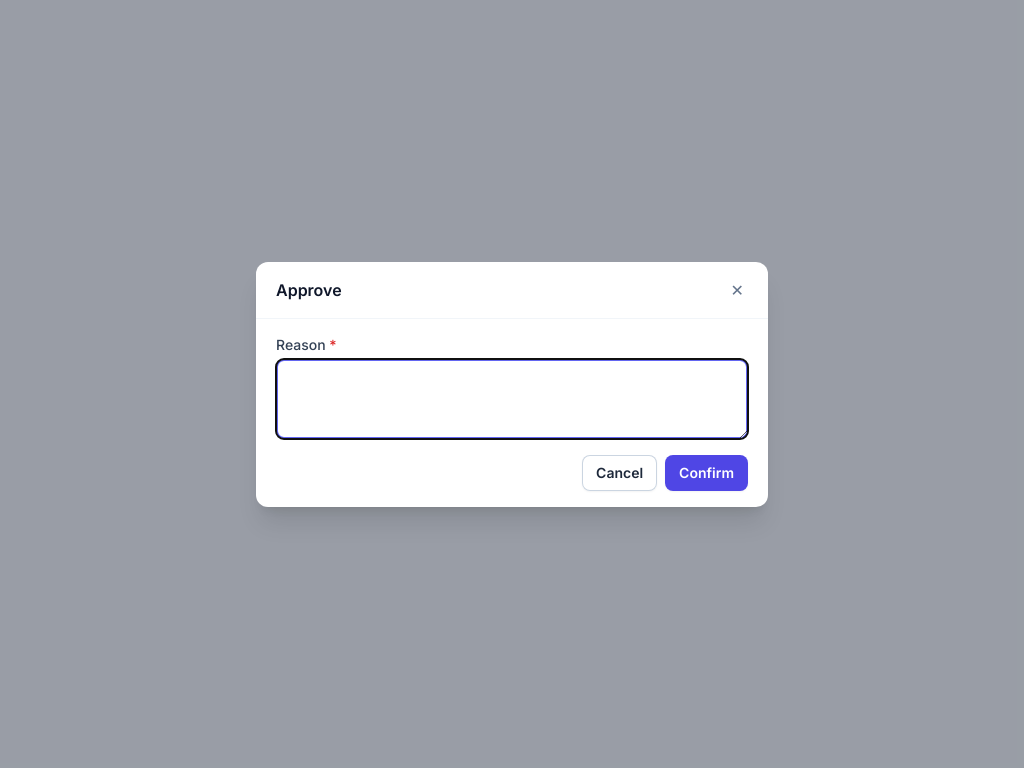
Test case: Confirmation with reason › requires a reason and shows server errors without closing
Click the button "Confirm" at (707, 472), box [665, 454, 748, 490]
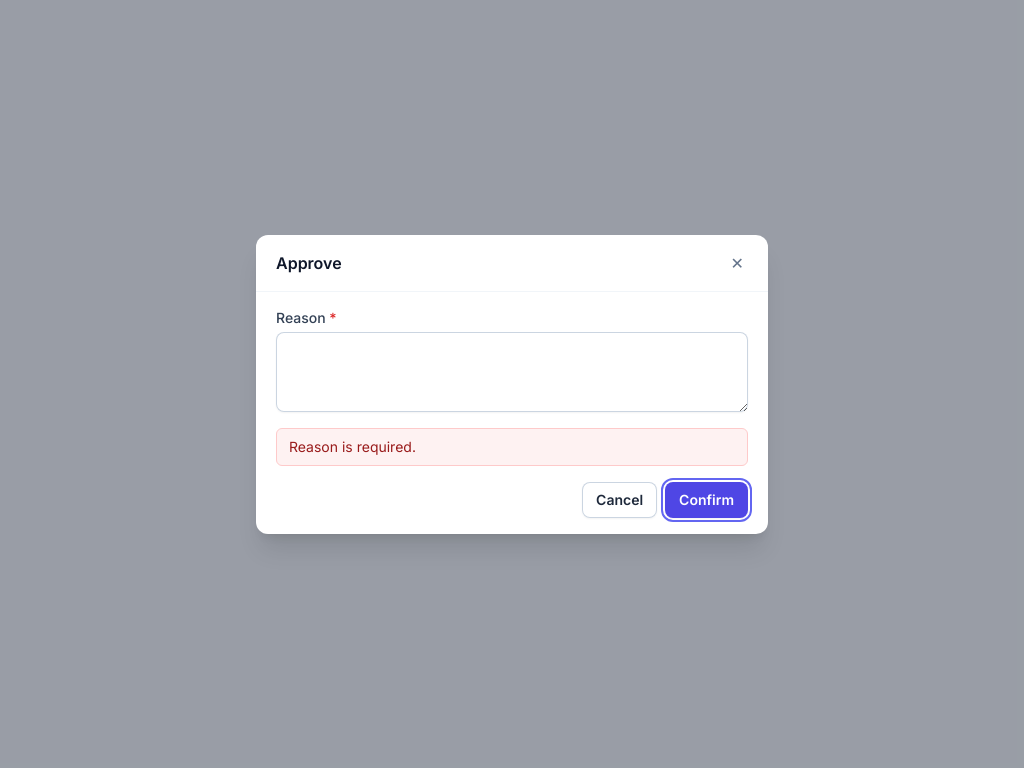
Now the message reads "Reason is required.", box [289, 438, 416, 454]
Type "Counted twice" into the text box labelled "Reason *" at (512, 372), box [276, 332, 748, 412]
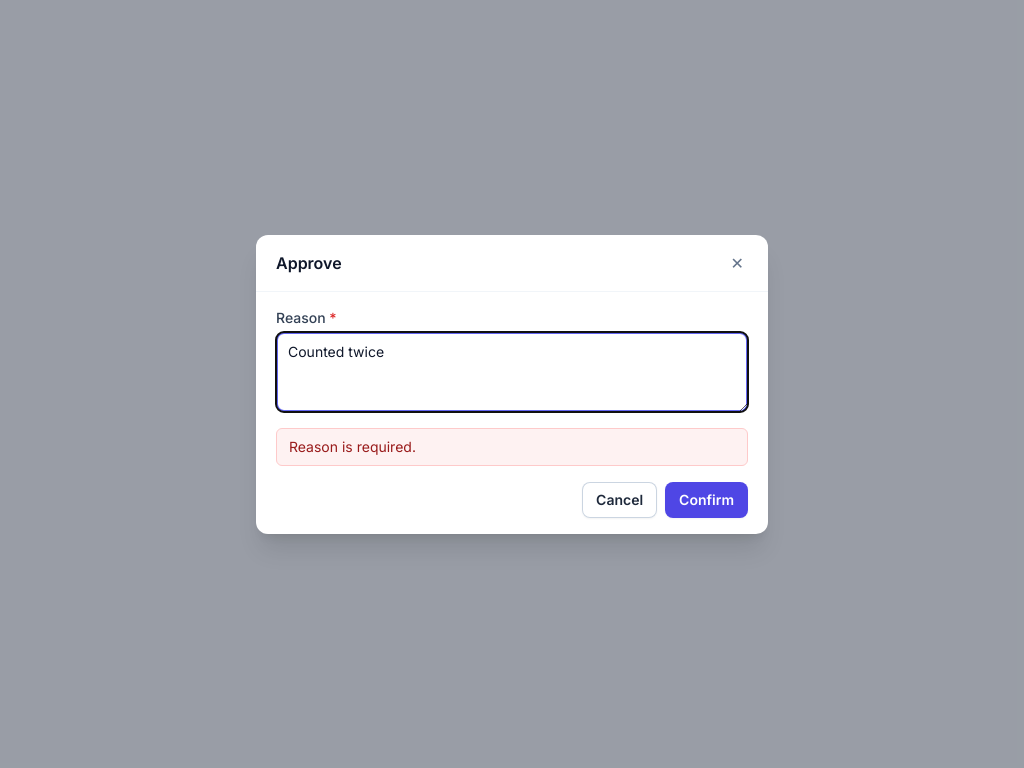
Click the button "Confirm" at (707, 500), box [665, 482, 748, 518]
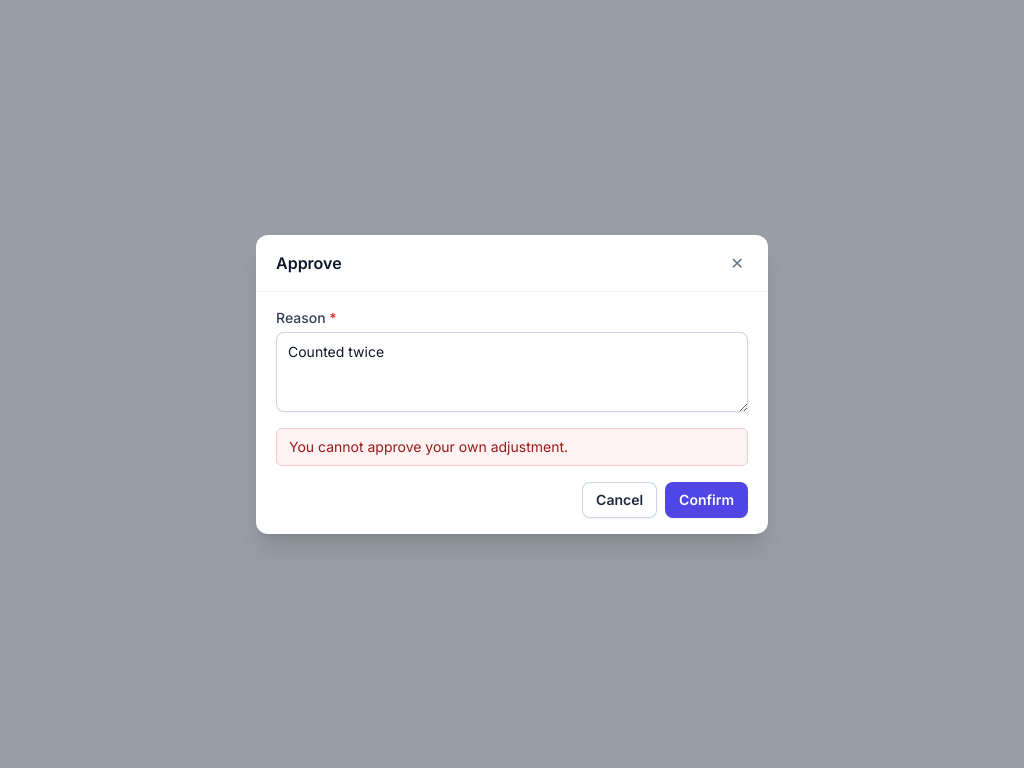
Now the text "You cannot approve your own adjustment." is shown, box [289, 438, 568, 454]
